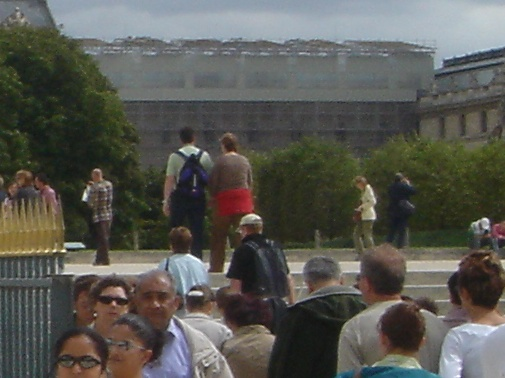person: (80, 165, 118, 265)
